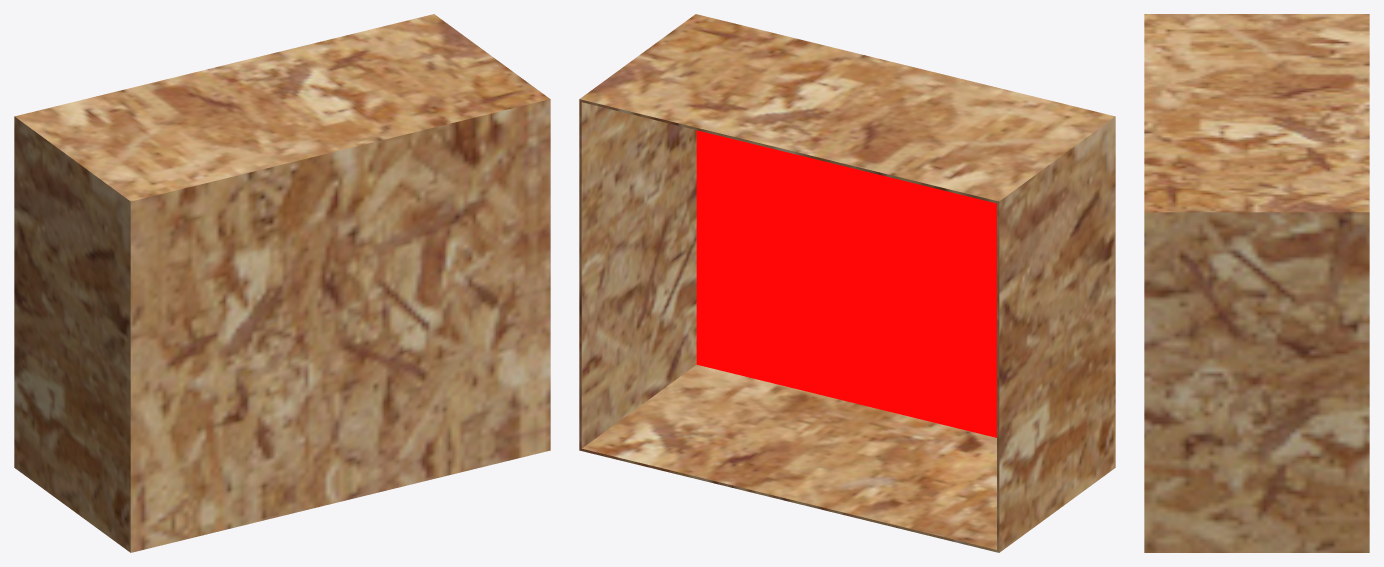
Rendered from victim-with-box1.dae.
3 views of the same model, side by side, from view 1: azimuth 30°, elevation 25°; view 2: azimuth 150°, elevation 25°; view 3: azimuth 270°, elevation 25° (orthographic). The views are drawn at different scales.
Visible parts, largest first — view 1: Cube; view 2: Cube; view 3: Cube.
Part boxes in pixels (bbox=[...]): Cube: bbox=[14, 14, 550, 552]; Cube: bbox=[579, 14, 1115, 552]; Cube: bbox=[1144, 14, 1369, 552].
Size of the model in its own units: 0.5 by 0.24 by 0.4.
2 materials, 1 textured.
